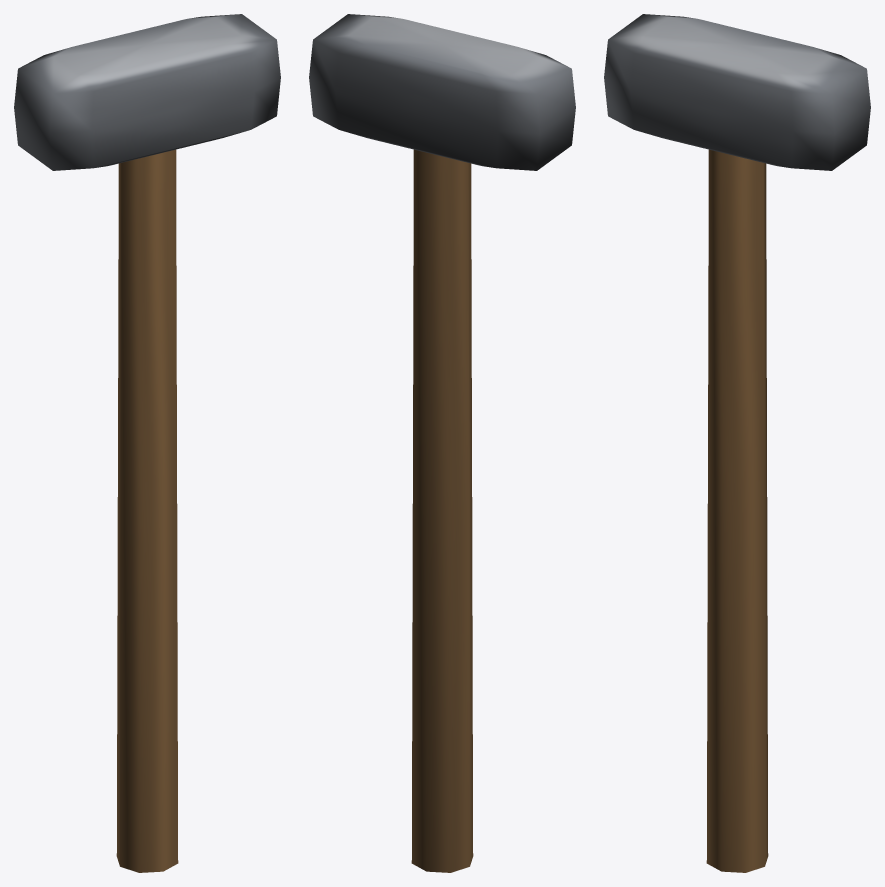
File: marteau.glb
3 renders of one model, left to right at view 1: azimuth 30°, elevation 25°; view 2: azimuth 150°, elevation 25°; view 3: azimuth 330°, elevation 25°, orthographic.
Visible parts, largest first — view 1: marteau; view 2: marteau; view 3: marteau.
Part boxes in pixels (x1,y1,x2,y2): marteau: [14, 14, 280, 872]; marteau: [309, 14, 575, 872]; marteau: [604, 14, 870, 872].
Bounding box in the file's own units: 0.1259 × 0.425 × 0.0484.
Materials: 1 (1 with a texture image).
